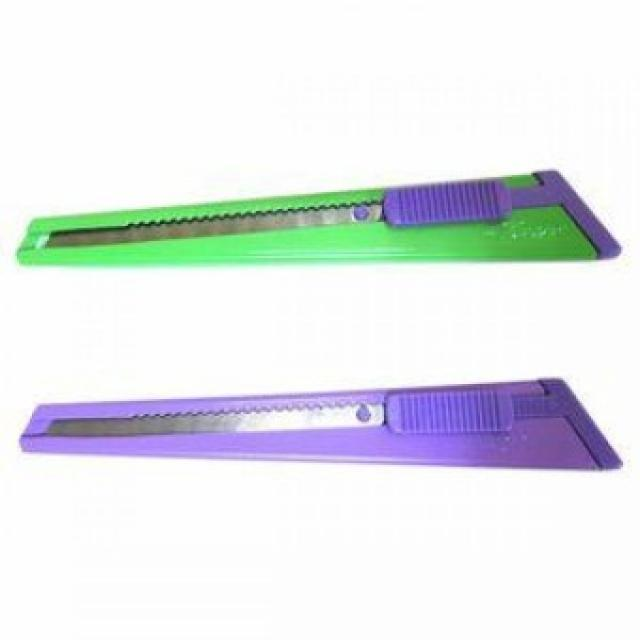cutter: (14, 148, 630, 290), (12, 373, 630, 488)
